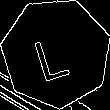L_N: (34, 24, 78, 82)
